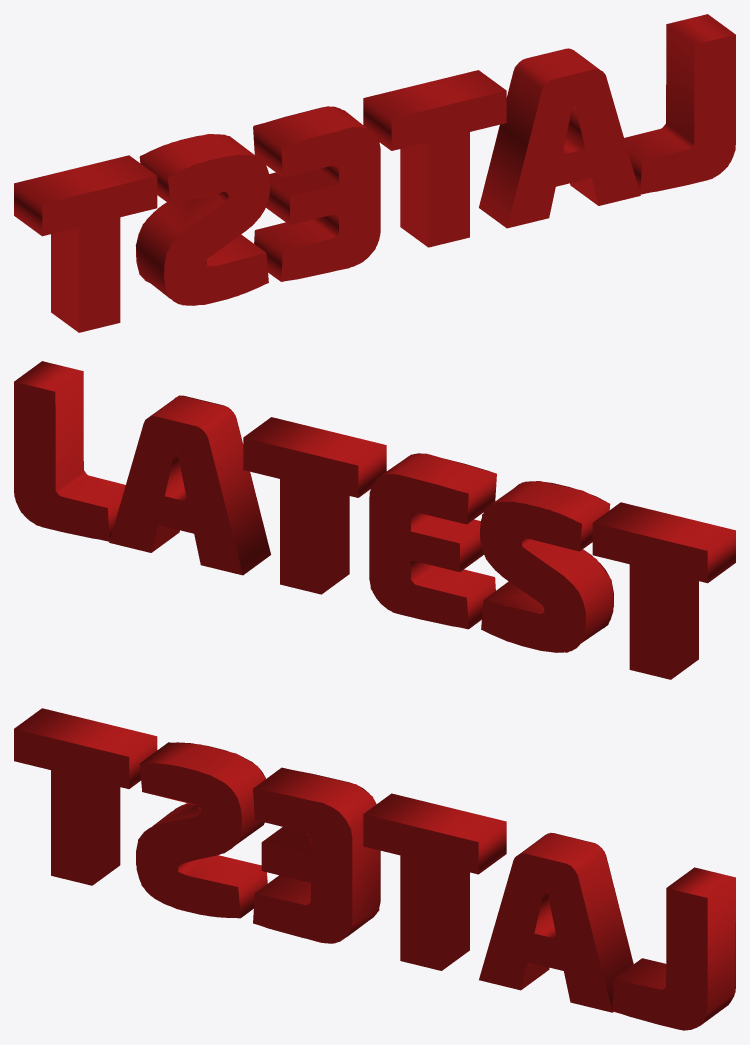
File: latest.fbx
The picture shows the model from 3 angles, top to bottom: view 1: azimuth 30°, elevation 25°; view 2: azimuth 150°, elevation 25°; view 3: azimuth 330°, elevation 25°; orthographic projection.
Visible parts, largest first — view 1: Text; view 2: Text; view 3: Text.
Part boxes in pixels (<box>): Text: <box>14,14,735,332</box>; Text: <box>14,361,735,679</box>; Text: <box>14,708,735,1030</box>.
Size of the model in its own units: 11.38 by 2.25 by 0.8.
